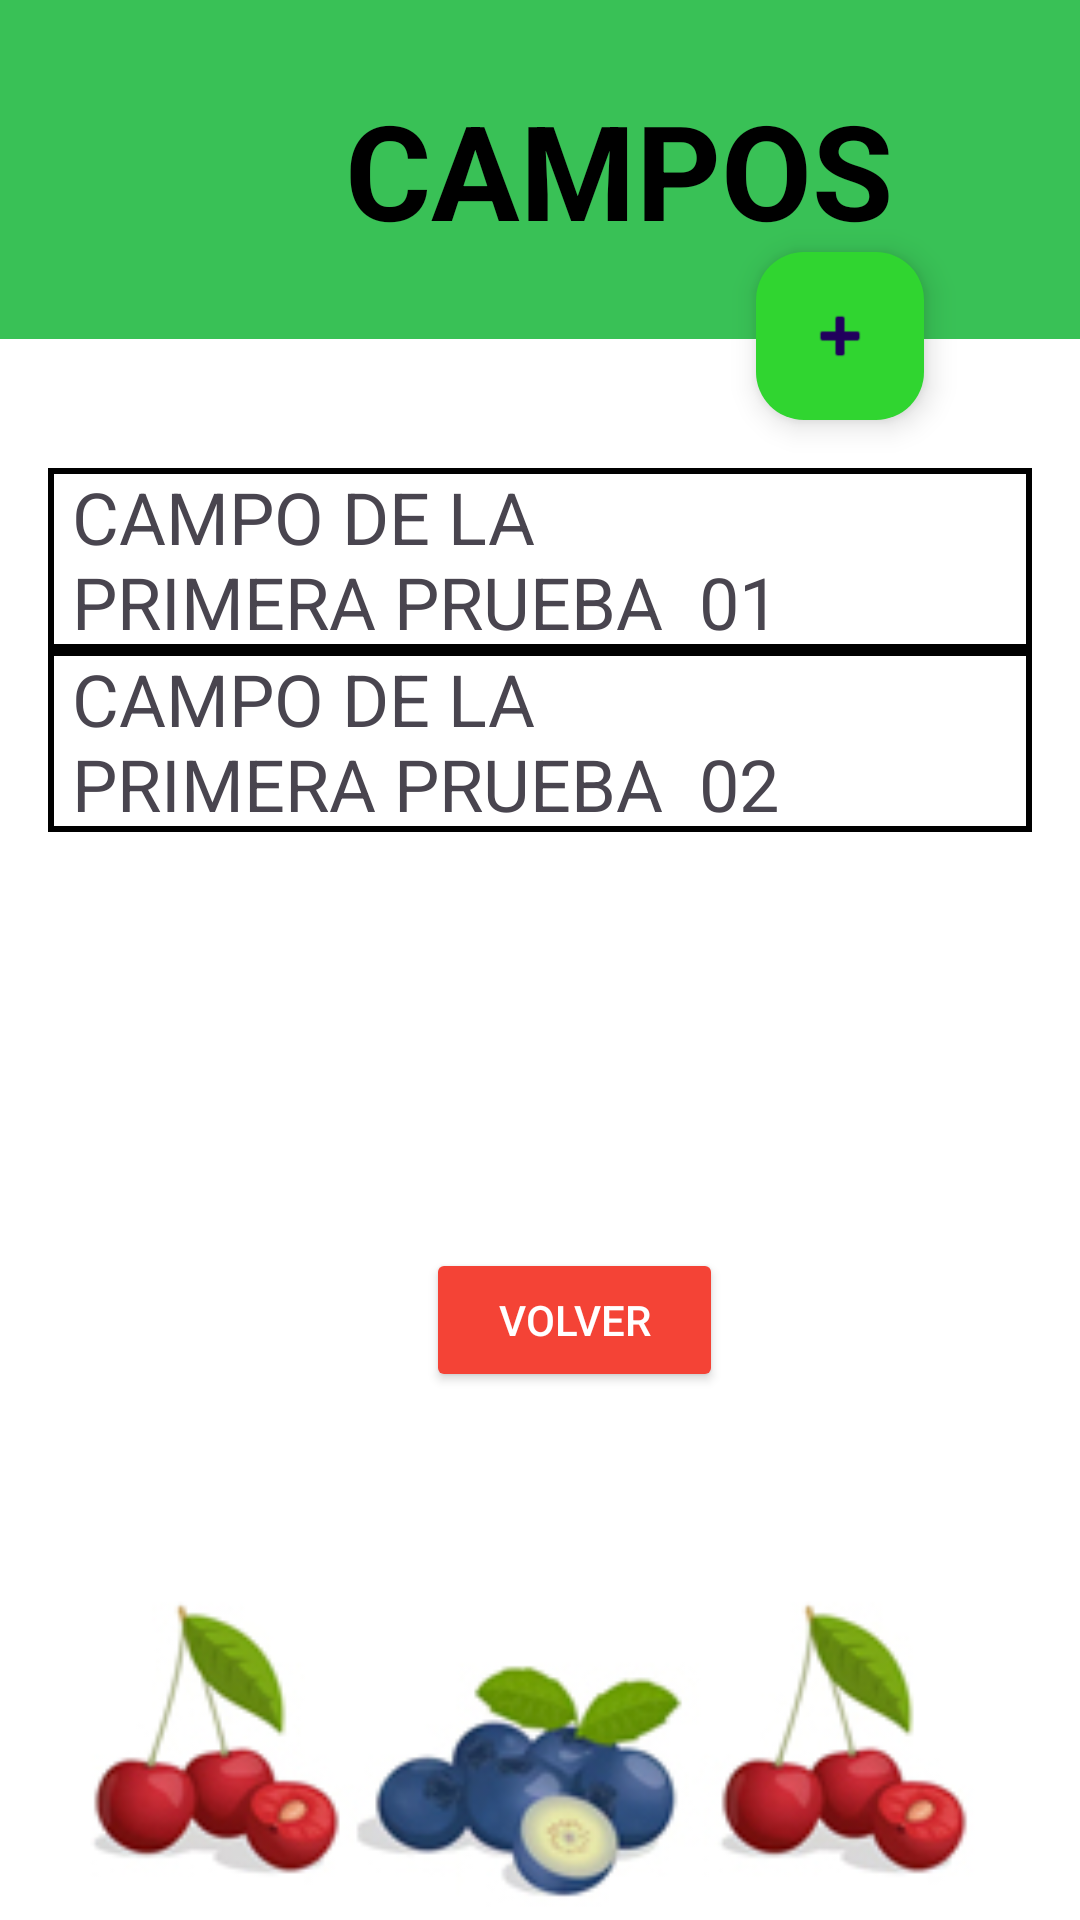

Where to tap for icons on this 1080 x 1920 app screen, as (x,y):
Agregar Campo: (840,336)
